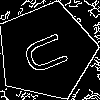U: (21, 26, 79, 78)
